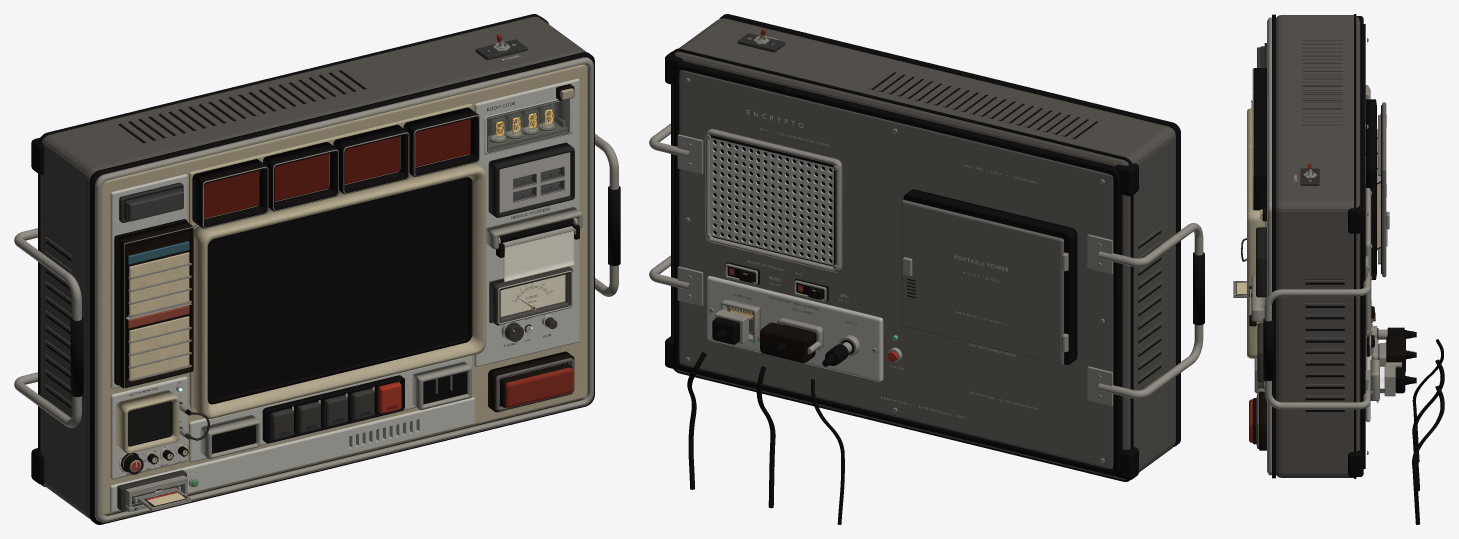
Rendered from decrypto-console.glb.
3 views of the same model, side by side, from view 1: azimuth 30°, elevation 25°; view 2: azimuth 150°, elevation 25°; view 3: azimuth 270°, elevation 25° (orthographic). The views are drawn at different scales.
Visible parts, largest first — view 1: Instrument_CRT backing, Chassis, Front enamel, Screen outer frame, Instrument_rolled perimeter casting, Archive column, Power rail, Instrument_front perimeter seal, Handle L, Front_roster cast carrier, Screen gasket, Receiver column (+32 smaller); view 2: Instrument_rear service cover, Chassis, Instrument_battery door, Instrument_rear panel gasket, Instrument_perforated speaker grille, Instrument_connector panel, Handle L, Instrument_rear cover seam, Instrument_front perimeter seal, Instrument_speaker cloth, Instrument_battery well, Instrument_speaker frame (+5 smaller); view 3: Chassis, Handle R, Instrument_rear panel gasket, Screen outer frame, Instrument_rolled perimeter casting, Instrument_front perimeter seal, Instrument_battery well, Instrument_rear cover seam, Instrument_battery door, Instrument_speaker frame, Optical bezel 3, Score bezel (+18 smaller).
Boxes of the visible parts, x1,y1,x2,y2 form: Instrument_CRT backing: (208, 178, 467, 399); Chassis: (40, 16, 585, 518); Front enamel: (101, 65, 587, 515); Screen outer frame: (189, 163, 486, 418); Instrument_rolled perimeter casting: (95, 57, 593, 522); Archive column: (474, 78, 579, 367); Power rail: (110, 397, 474, 512); Instrument_front perimeter seal: (89, 52, 594, 524); Handle L: (14, 228, 83, 427); Front_roster cast carrier: (116, 221, 193, 388); Screen gasket: (207, 177, 472, 404); Receiver column: (110, 174, 187, 388); Instrument_rear service cover: (679, 70, 1113, 469); Chassis: (673, 18, 1175, 479); Instrument_battery door: (901, 200, 1063, 365); Instrument_rear panel gasket: (673, 61, 1122, 475); Instrument_perforated speaker grille: (711, 137, 833, 265); Instrument_connector panel: (707, 276, 883, 381); Handle L: (1087, 223, 1204, 406); Instrument_rear cover seam: (671, 48, 1133, 481); Instrument_front perimeter seal: (719, 14, 1180, 446); Instrument_speaker cloth: (711, 135, 835, 266); Instrument_battery well: (903, 189, 1077, 364); Instrument_speaker frame: (705, 128, 842, 272); Chassis: (1276, 15, 1360, 477); Handle R: (1263, 256, 1370, 409); Instrument_rear panel gasket: (1360, 24, 1365, 468); Screen outer frame: (1247, 108, 1265, 358); Instrument_rolled perimeter casting: (1267, 17, 1271, 475); Instrument_front perimeter seal: (1272, 14, 1275, 478); Instrument_battery well: (1366, 99, 1376, 279); Instrument_rear cover seam: (1354, 14, 1356, 478); Instrument_battery door: (1382, 102, 1386, 277); Instrument_speaker frame: (1365, 188, 1371, 336); Optical bezel 3: (1253, 149, 1266, 210); Score bezel: (1256, 227, 1266, 297).
Size of the model in its own units: 17.52 by 13.87 by 7.45.
80 materials, 8 textured.
